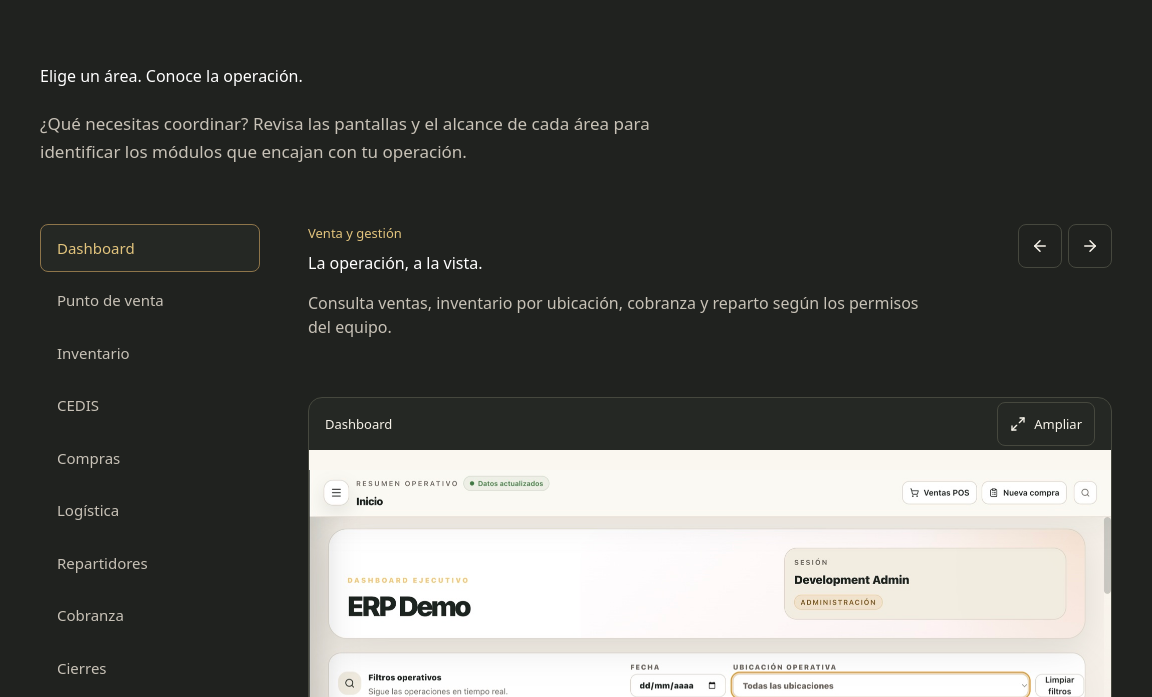
Test: Visible Operations P0 › keeps every verified category selectable and presents the approved inventory balance capture
Click the tab "Inventario" at point(150, 353), box [40,329,260,377]
(page scrolled)
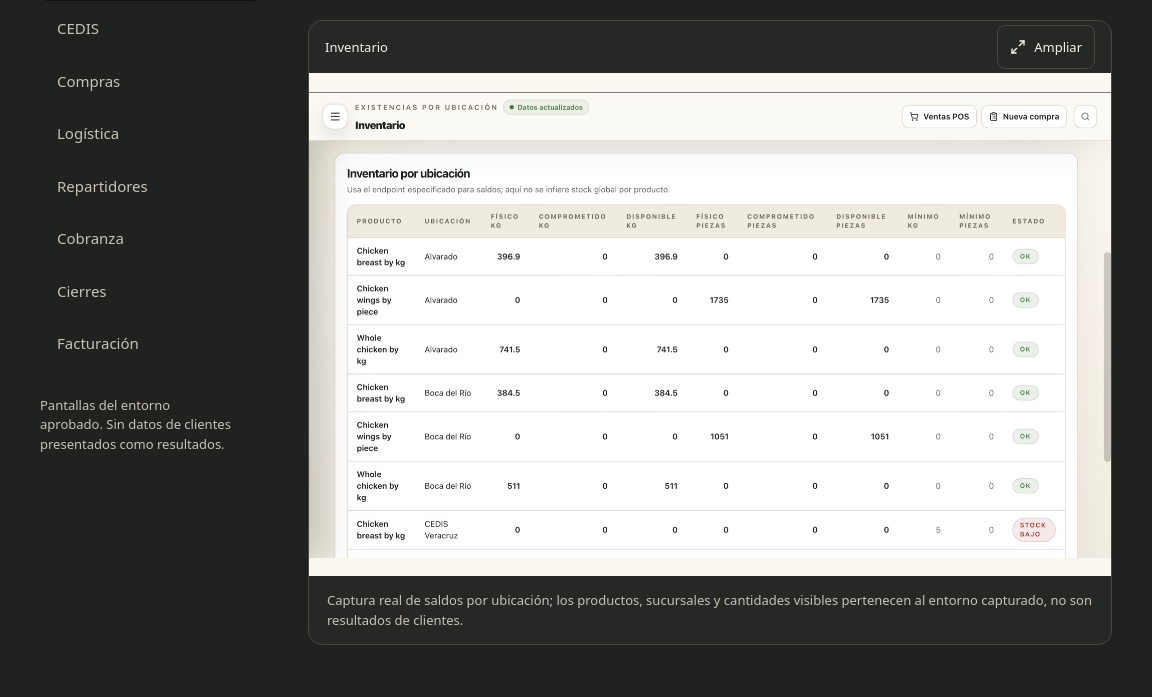
expect the picture named "Captura real de Los-Pollos-Distribuidora: Inventario" is shown: met, box [309,92,1111,558]
expect the panel shows "saldos por ubicación": met, box [327,591,1092,629]
expect the text "entorno capturado" is shown: met, box [327,591,1092,629]
